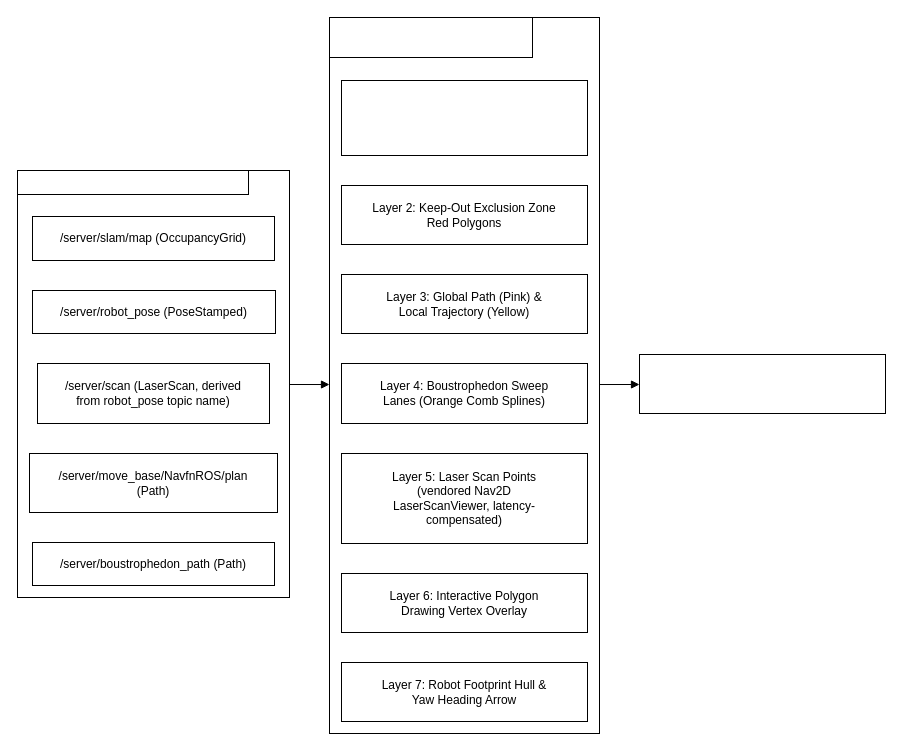
The diagram is 903 pixels wide and 751 high, and some of its shapes have lost their labels. The shapes that lost their labels are listed below. From the top down, each one's box as (x1, y1, x2, y2) in pixels, then its label:
(328, 16, 532, 58): EaselJS 2D Canvas Stage (mapComponent.tsx)
(340, 80, 588, 156): Layer 1: Base Map OccupancyGrid Bitmap (resolution from map metadata)
(16, 170, 248, 194): Incoming rosbridge WebSocket Streams
(638, 354, 886, 414): HTML5 Canvas Display (60 FPS Pan/Zoom)
